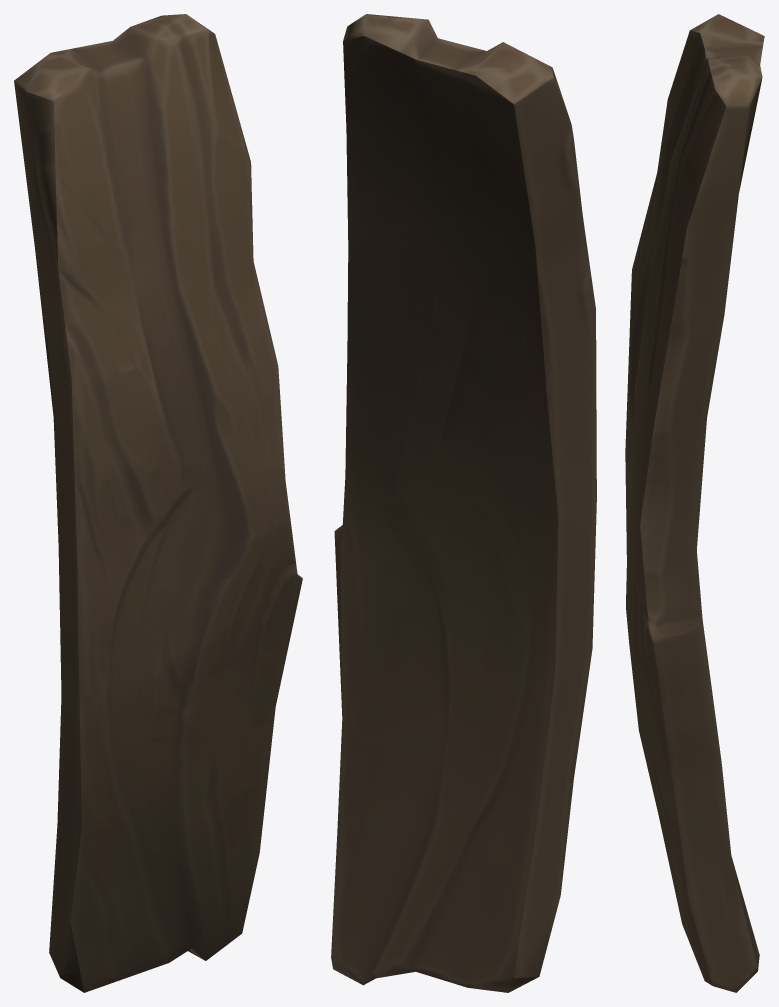
Rendered from SM_FW01_BarrelDebris_06.fbx.
3 renders of one model, left to right at view 1: azimuth 30°, elevation 25°; view 2: azimuth 150°, elevation 25°; view 3: azimuth 270°, elevation 25°, orthographic. The views are drawn at different scales.
Parts seen in each view (by area): view 1: SM_FW01_BarrelDebris_06_LOD0; view 2: SM_FW01_BarrelDebris_06_LOD0; view 3: SM_FW01_BarrelDebris_06_LOD0.
Boxes of the visible parts, <box> form: SM_FW01_BarrelDebris_06_LOD0: <box>14,14,302,992</box>; SM_FW01_BarrelDebris_06_LOD0: <box>331,14,596,992</box>; SM_FW01_BarrelDebris_06_LOD0: <box>625,14,764,992</box>.
Size of what is drawn, in the model's own units: 0.3147 by 1.13 by 0.158.
